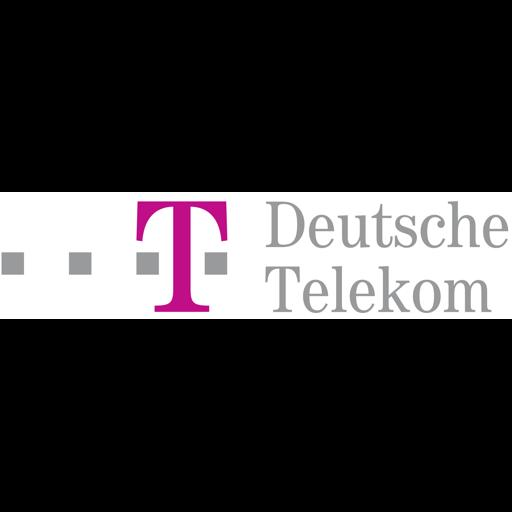Deutsche Telekom: (0, 192, 512, 319)
